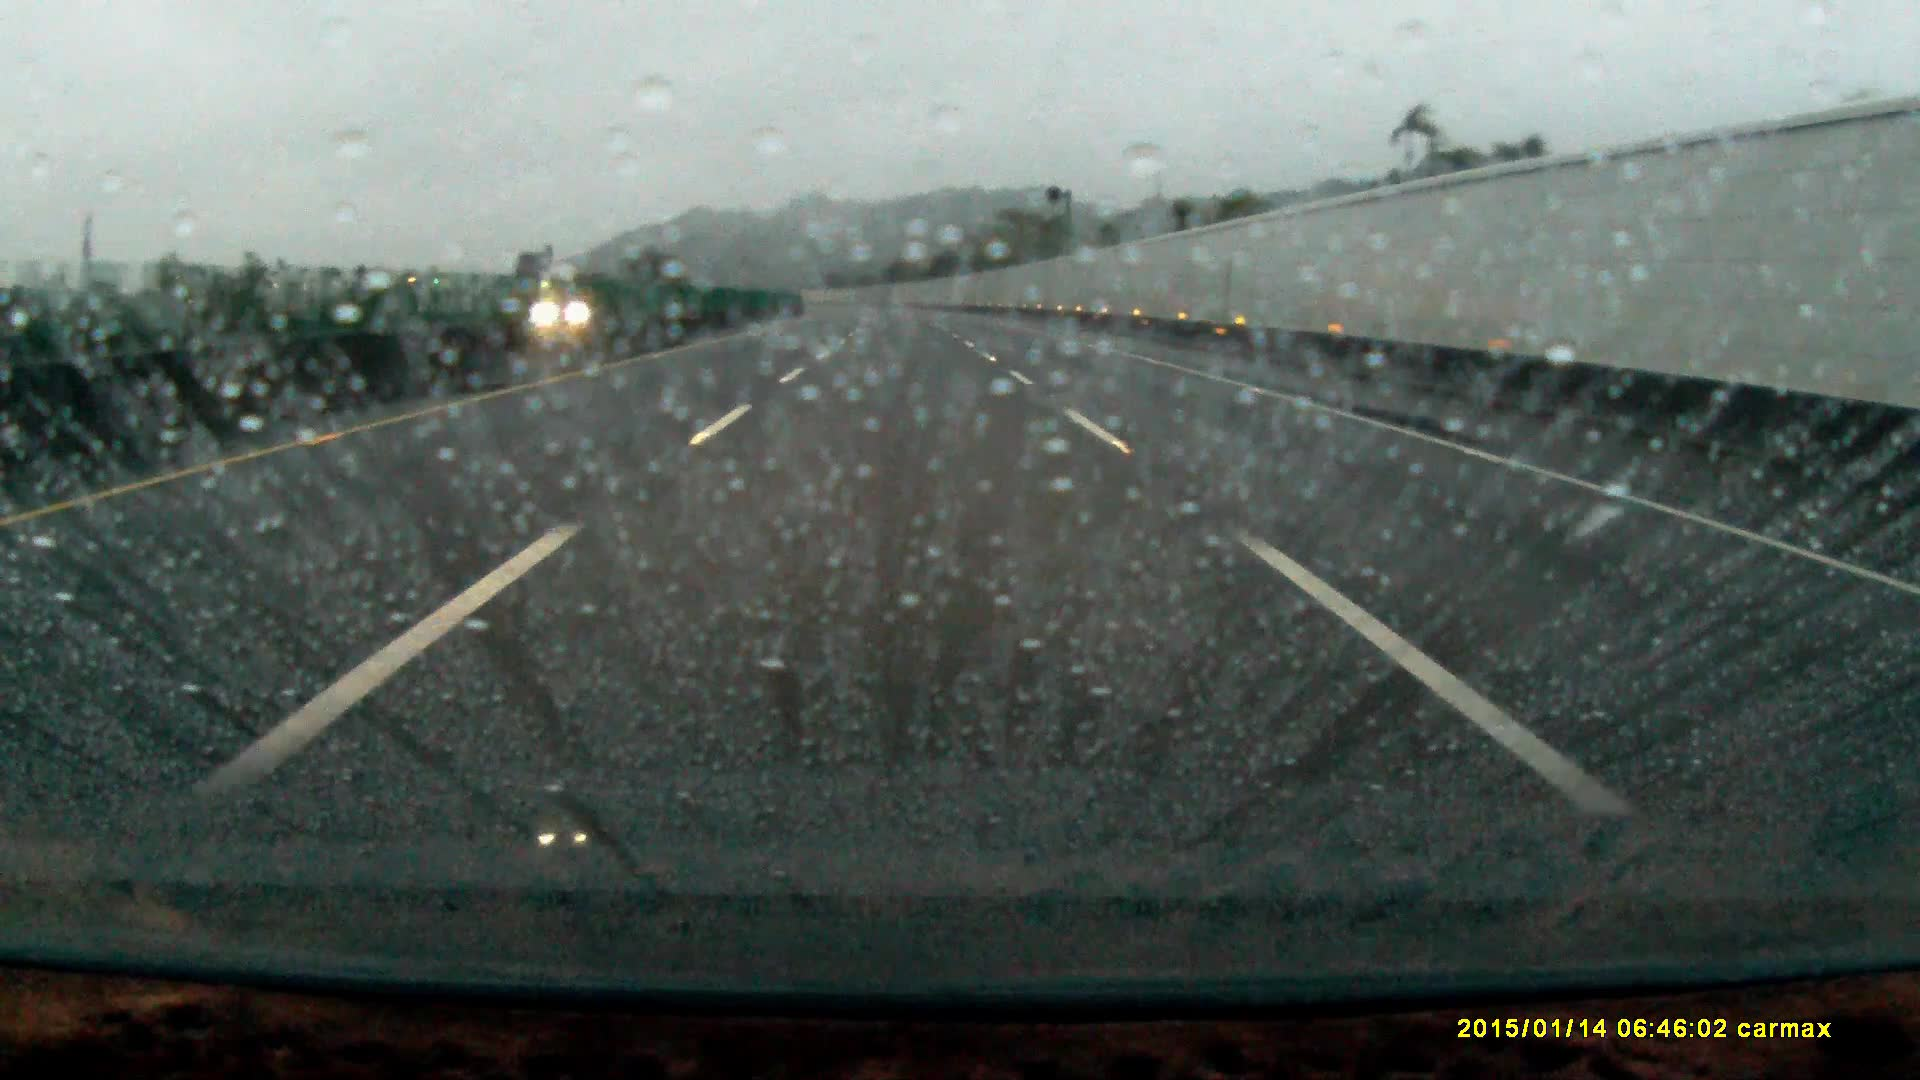vehicle: (545, 290, 609, 322)
